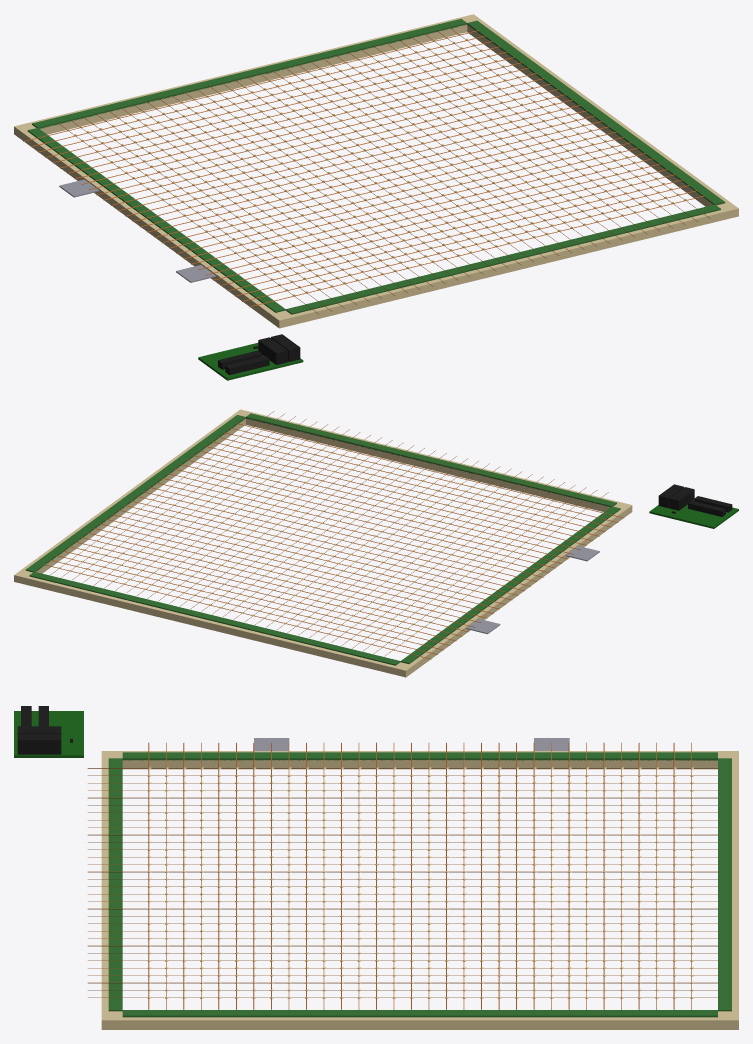
The model's file is wire_grid_32x32.glb.
3 renders of one model, top to bottom at view 1: azimuth 30°, elevation 25°; view 2: azimuth 150°, elevation 25°; view 3: azimuth 270°, elevation 25°, orthographic. The views are drawn at different scales.
Visible parts, largest first — view 1: row_wires_0p5_enamel, frame, rails_fr4, col_wires_0p25_enamel, leds_NCD0603W1, kapton_crossings, tag_headers, led_emitters, tag_WG_TAG, fan_ribbons; view 2: row_wires_0p5_enamel, frame, rails_fr4, col_wires_0p25_enamel, leds_NCD0603W1, kapton_crossings, tag_headers, led_emitters, tag_WG_TAG, fan_ribbons; view 3: col_wires_0p25_enamel, frame, rails_fr4, row_wires_0p5_enamel, leds_NCD0603W1, led_emitters, kapton_crossings, tag_WG_TAG, tag_headers, fan_ribbons.
Part boxes in pixels (x1,y1,x2,y2): row_wires_0p5_enamel: (23,30,703,307); frame: (14,14,738,328); rails_fr4: (27,18,725,314); col_wires_0p25_enamel: (56,26,710,314); leds_NCD0603W1: (66,33,686,295); kapton_crossings: (66,34,686,296); tag_headers: (218,334,300,375); led_emitters: (67,33,685,294); tag_WG_TAG: (198,343,303,380); fan_ribbons: (59,179,215,282); row_wires_0p5_enamel: (43,423,623,659); frame: (14,409,632,677); rails_fr4: (25,413,620,665); col_wires_0p25_enamel: (50,411,608,656); leds_NCD0603W1: (58,426,586,649); kapton_crossings: (60,426,587,649); tag_headers: (658,484,732,516); led_emitters: (58,426,585,648); tag_WG_TAG: (649,500,738,528); fan_ribbons: (466,546,599,634); col_wires_0p25_enamel: (87,768,717,997); frame: (101,751,738,1029); rails_fr4: (108,752,731,1017); row_wires_0p5_enamel: (148,742,691,1009); leds_NCD0603W1: (148,767,693,998); led_emitters: (149,767,693,997); kapton_crossings: (147,768,691,998); tag_WG_TAG: (14,711,83,757); tag_headers: (17,706,72,754); fan_ribbons: (254,738,569,750).
Bounding box in the file's own units: 434 × 11.2 × 414.
